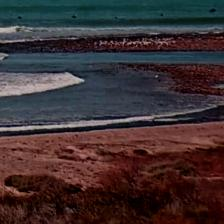surfer: (210, 8, 217, 14), (71, 15, 78, 20), (16, 15, 22, 20), (160, 13, 165, 17)
